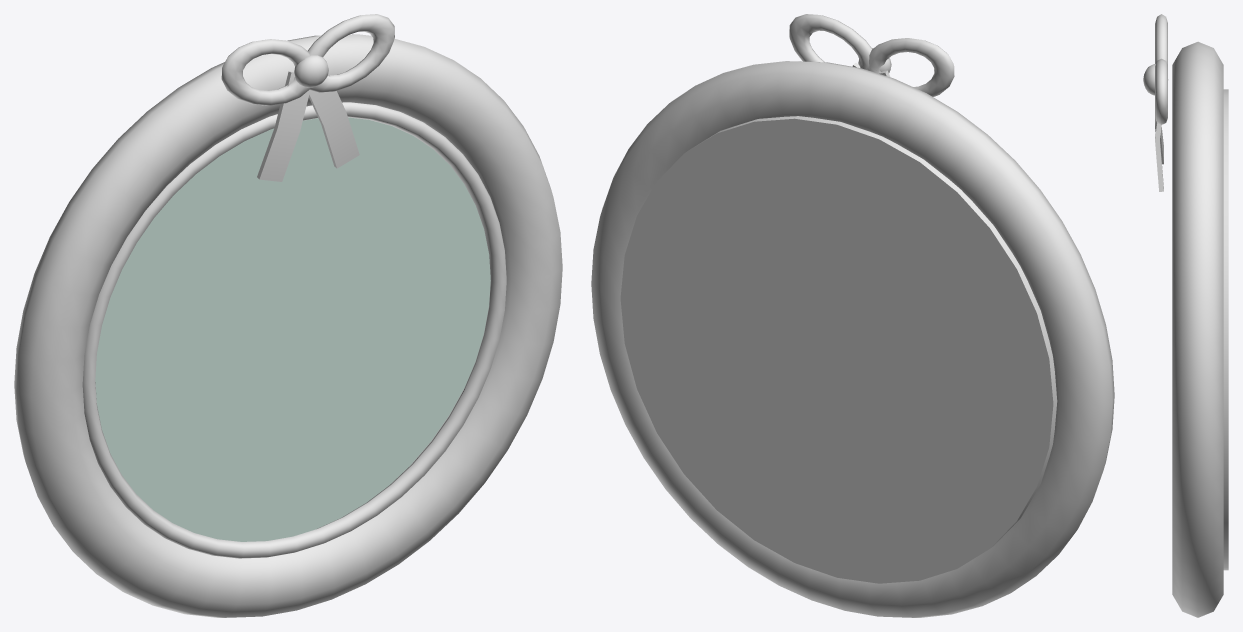
Rendered from globe_frame.fbx.
3 renders of one model, left to right at view 1: azimuth 30°, elevation 25°; view 2: azimuth 150°, elevation 25°; view 3: azimuth 270°, elevation 25°, orthographic. The views are drawn at different scales.
Visible parts, largest first — view 1: globe_frame; view 2: globe_frame; view 3: globe_frame.
Part boxes in pixels (left/top/right/bottom): globe_frame: left=14, top=14, right=562, bottom=617; globe_frame: left=591, top=14, right=1114, bottom=617; globe_frame: left=1143, top=14, right=1228, bottom=617.
Bounding box in the file's own units: 4.12 × 4.32 × 0.6116.
